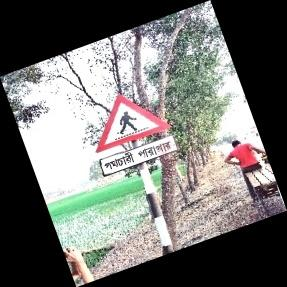Pedestrian-crossing: (94, 94, 176, 178)
